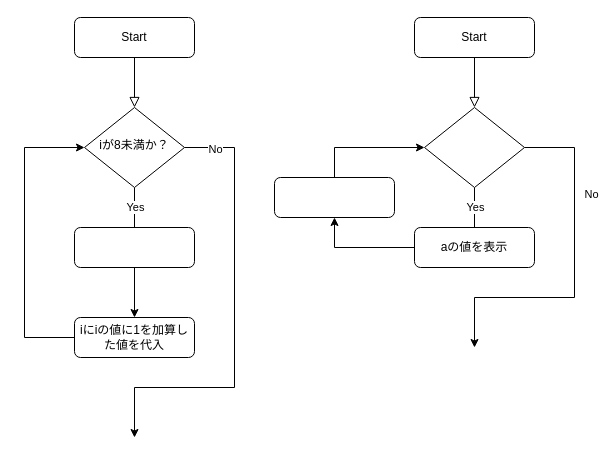
The diagram is 615 pixels wide and 463 high, and some of its shapes have lost their labels. The centre of each missing label's shape, as x and y in pixels:
"aが8未満か？" goes at point 474,147.
"aにaの値に1を加算した値を代入" goes at point 334,197.
"iの値を表示" goes at point 134,247.
